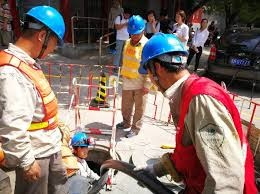blue: (18, 3, 67, 59), (141, 33, 188, 91), (70, 132, 90, 159), (125, 15, 145, 40)
none: (173, 10, 185, 24), (146, 10, 156, 22), (199, 17, 208, 30)
